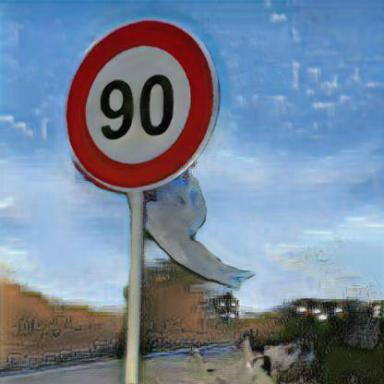Speed_limit_90: (68, 24, 215, 187)
